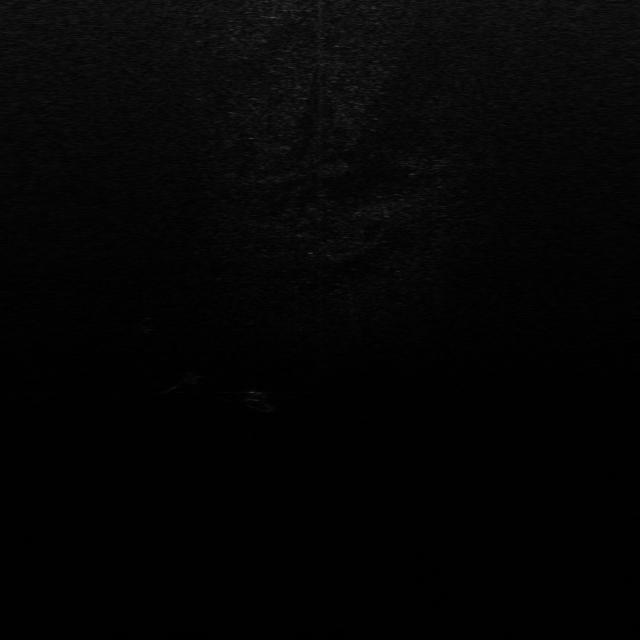ball: (183, 368, 209, 384)
circle cage: (134, 314, 162, 332)
tyre: (243, 392, 281, 411)
